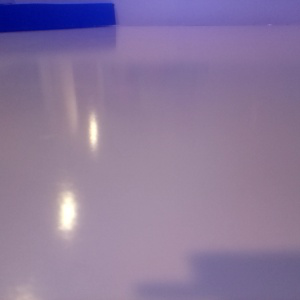zone: (1, 3, 116, 32)
